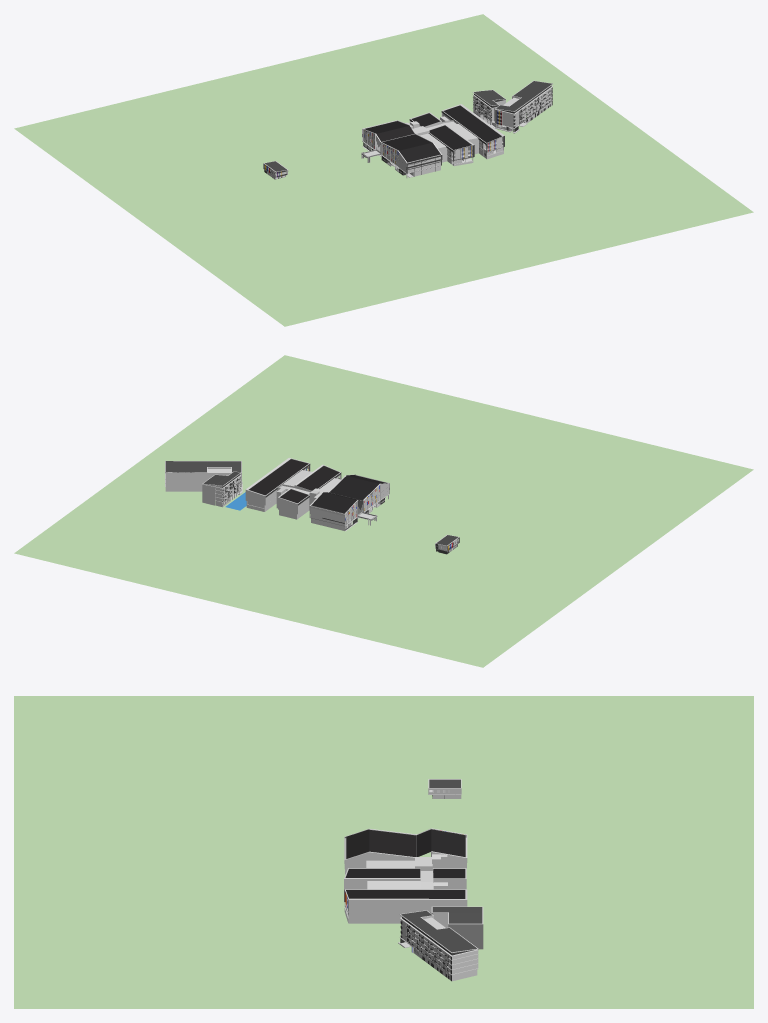
3 views of the same model, one above another, from view 1: azimuth 30°, elevation 25°; view 2: azimuth 150°, elevation 25°; view 3: azimuth 270°, elevation 25° (orthographic). The views are drawn at different scales.
Visible parts, largest first — view 1: Ground.001, Block A, Dorm, Block C.001, Block B.001; view 2: Ground.001, Block A, Dorm, Block C.001, Block B.001; view 3: Ground.001, Dorm, Block A, Block C.001, Block B.001, Block A-B, Block B-C, Upper Floor.
Part boxes in pixels (x1,y1,x2,y2): Ground.001: [14, 14, 753, 326]; Block A: [361, 120, 442, 178]; Dorm: [472, 80, 553, 133]; Block C.001: [441, 104, 504, 159]; Block B.001: [409, 112, 474, 166]; Ground.001: [14, 355, 753, 667]; Block A: [309, 474, 389, 531]; Dorm: [165, 461, 242, 507]; Block C.001: [245, 458, 310, 511]; Block B.001: [278, 464, 341, 519]; Ground.001: [14, 696, 753, 1008]; Dorm: [398, 906, 483, 981]; Block A: [344, 828, 467, 874]; Block C.001: [344, 889, 467, 923]; Block B.001: [344, 868, 466, 902]; Block A-B: [366, 854, 447, 870]; Block B-C: [367, 881, 447, 889]; Upper Floor: [428, 779, 461, 795].
Size of the model in its own units: 500 by 22.41 by 500.
